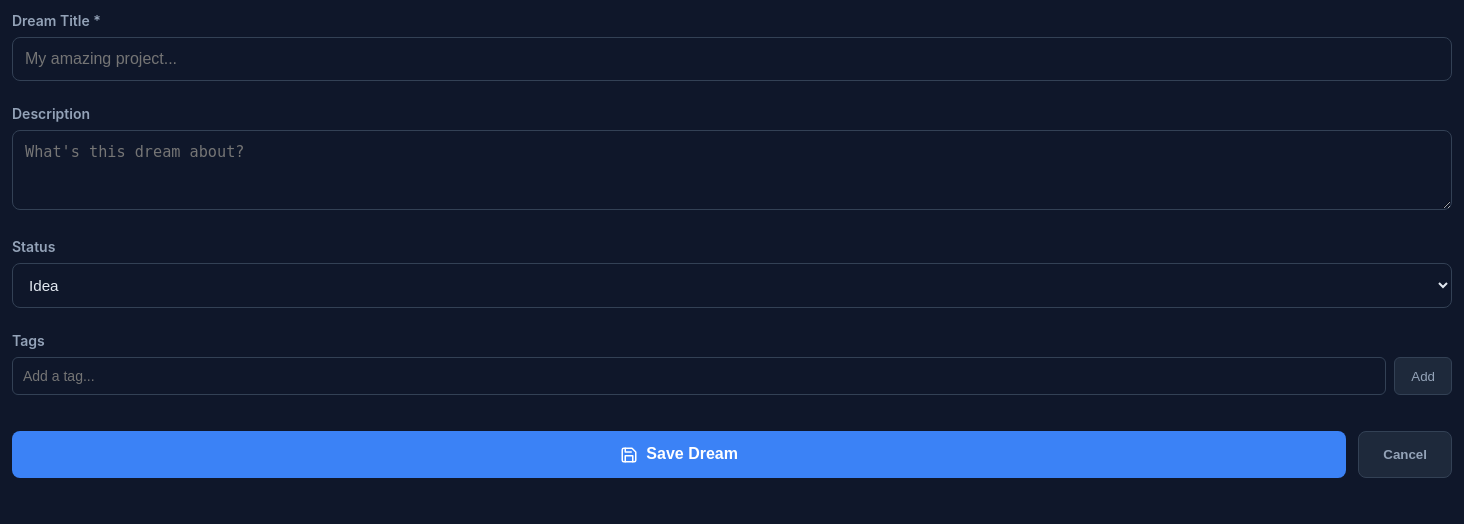
Test: DreamForm › allows user to add tags
Type "test-tag" into the field with placeholder "Add a tag...". click: (699, 376)
box: [12, 357, 1386, 395]
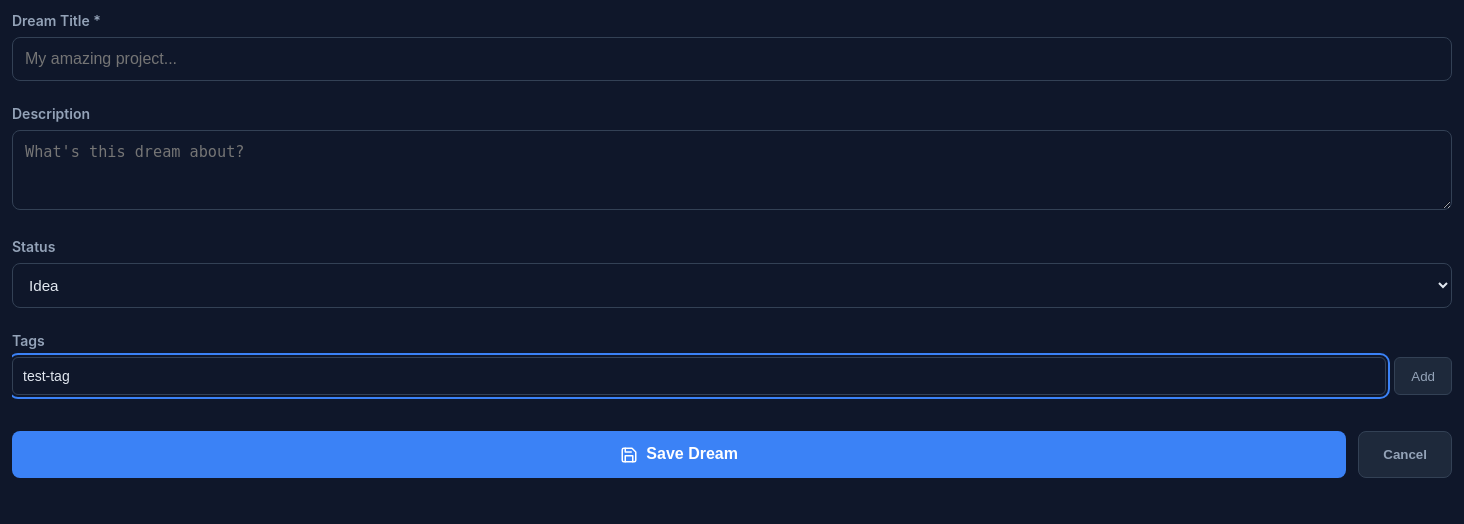
Click the button "Add". click: (1423, 376)
box: [1394, 357, 1452, 395]
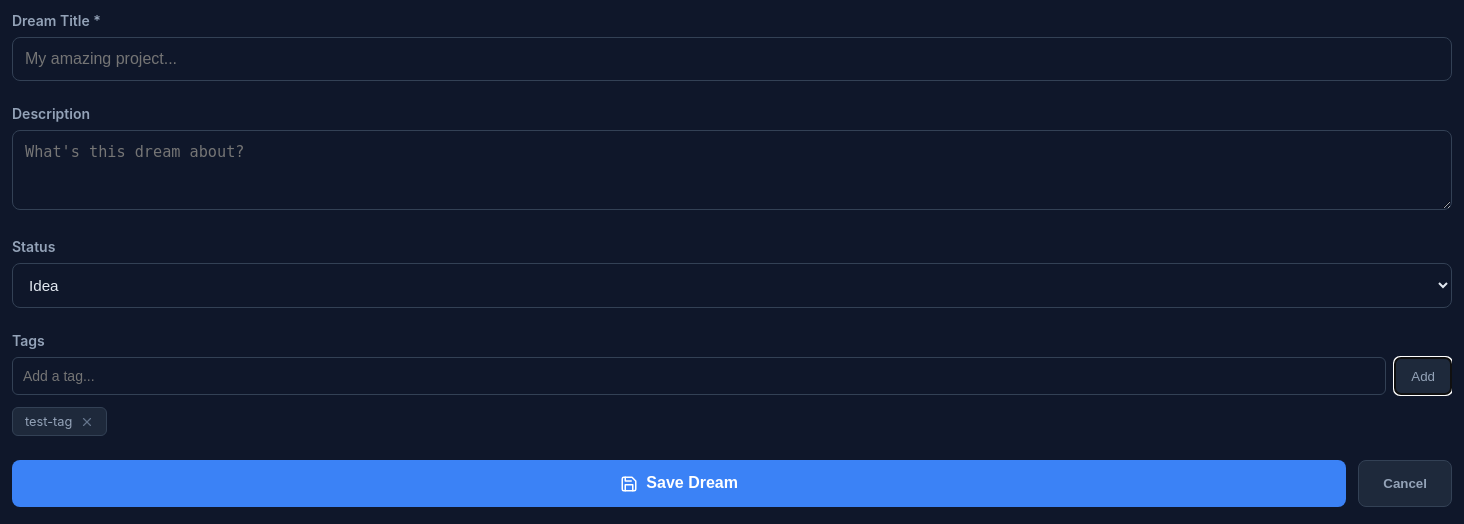
Expected: the text "test-tag" is shown, [12, 407, 107, 436]
Expected: the field with placeholder "Add a tag..." is empty, [12, 357, 1386, 395]
